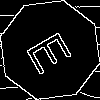E: (25, 25, 81, 77)
